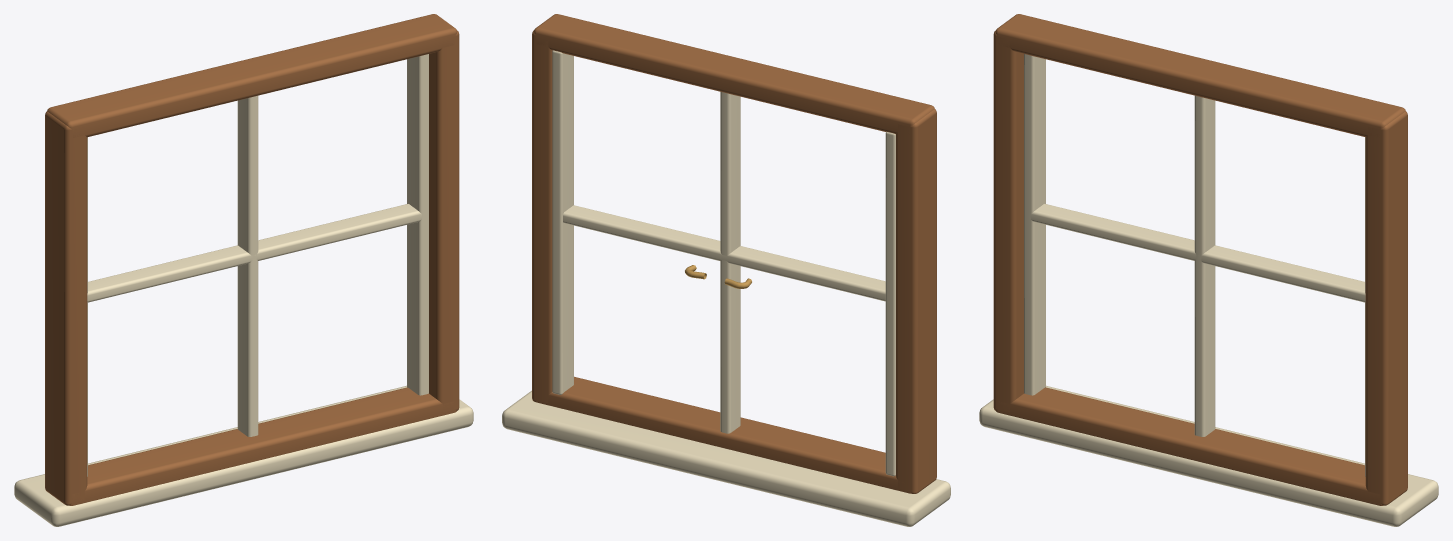
File: window_frame.glb
3 views of the same model, side by side, from view 1: azimuth 30°, elevation 25°; view 2: azimuth 150°, elevation 25°; view 3: azimuth 330°, elevation 25° (orthographic). The views are drawn at different scales.
Parts seen in each view (by area): view 1: House07_window_frame; view 2: House07_window_frame; view 3: House07_window_frame.
Boxes of the visible parts, x1,y1,x2,y2 form: House07_window_frame: (14,14,473,526); House07_window_frame: (502,14,950,526); House07_window_frame: (979,14,1438,526).
Size of the model in its own units: 1.78 by 1.62 by 0.31.
